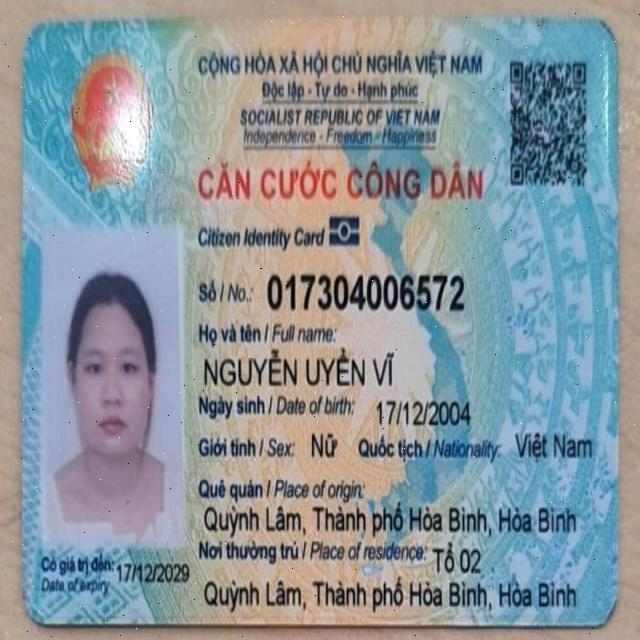current_place: (205, 572, 584, 615), (432, 538, 487, 577)
dob: (376, 392, 474, 431)
expire_date: (115, 559, 192, 586)
gender: (309, 425, 339, 462)
id: (264, 268, 465, 316)
name: (202, 348, 395, 392)
nationality: (512, 429, 598, 464)
origin_place: (197, 496, 580, 544)
